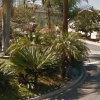Palm tree: (43, 0, 80, 41)
